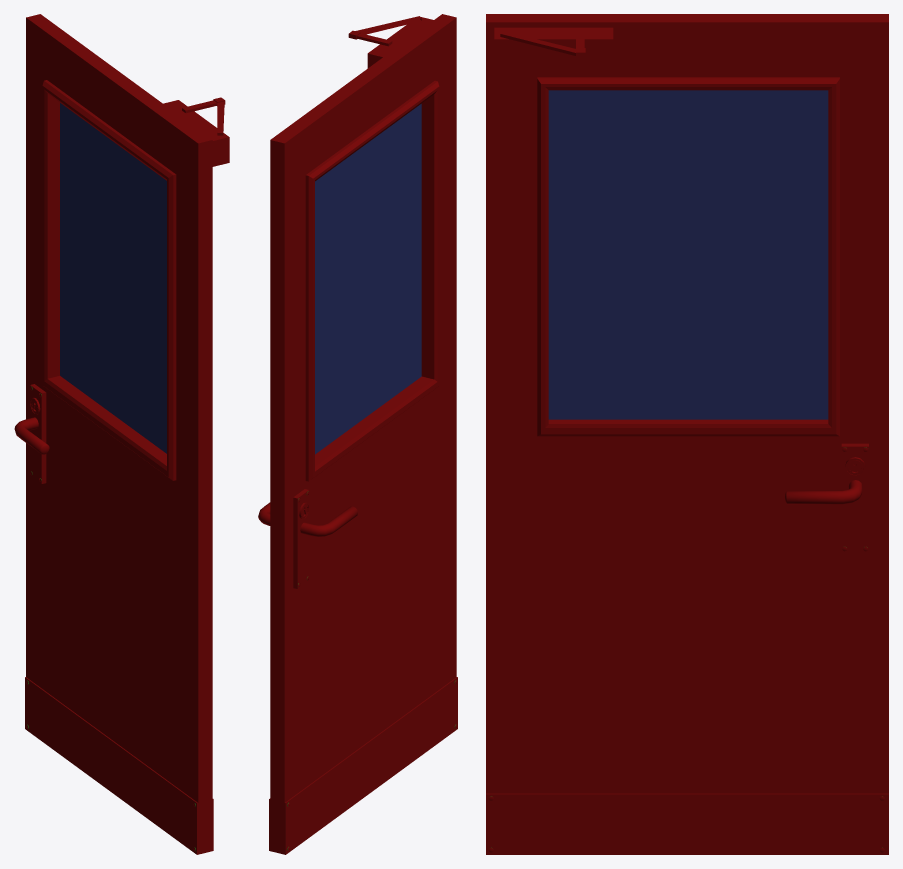
File: GG_DOOR.FBX
The picture shows the model from 3 angles, left to right: view 1: azimuth 30°, elevation 25°; view 2: azimuth 150°, elevation 25°; view 3: azimuth 270°, elevation 25°; orthographic projection. The views are drawn at different scales.
Parts seen in each view (by area): view 1: GG_DOOR002; view 2: GG_DOOR002; view 3: GG_DOOR002.
Boxes of the visible parts, box(x1,y1,x2,y2) form: GG_DOOR002: box(14, 14, 229, 854); GG_DOOR002: box(258, 14, 457, 854); GG_DOOR002: box(486, 14, 888, 854).
Size of the model in its own units: 32.04 by 228 by 100.
